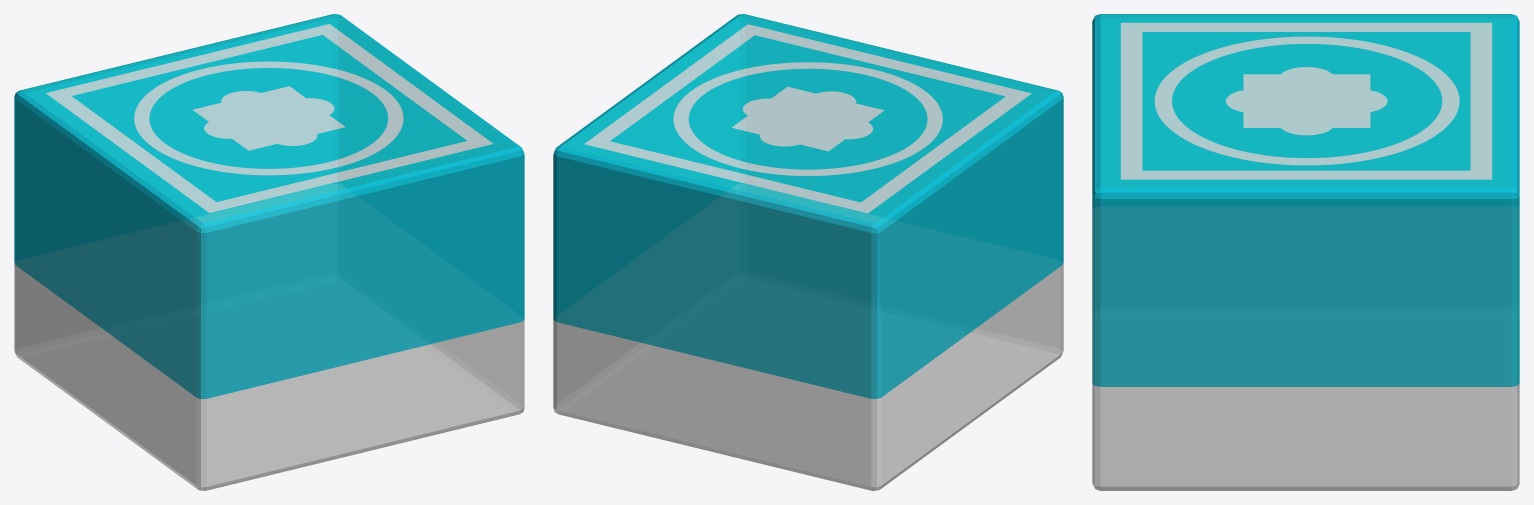
Rendered from greenboard.fbx.
3 views of the same model, side by side, from view 1: azimuth 30°, elevation 25°; view 2: azimuth 150°, elevation 25°; view 3: azimuth 270°, elevation 25° (orthographic). The views are drawn at different scales.
Visible parts, largest first — view 1: yellowboard; view 2: yellowboard; view 3: yellowboard.
Boxes of the visible parts, left/top/right/bottom form: yellowboard: left=14, top=14, right=524, bottom=490; yellowboard: left=553, top=14, right=1063, bottom=490; yellowboard: left=1092, top=14, right=1519, bottom=490.
Bounding box in the file's own units: 0.64 × 0.5 × 0.64.
3 materials, 1 textured.
